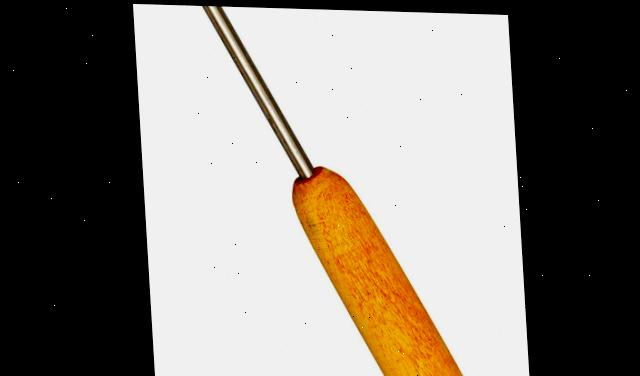ice pick: (153, 4, 495, 376)
